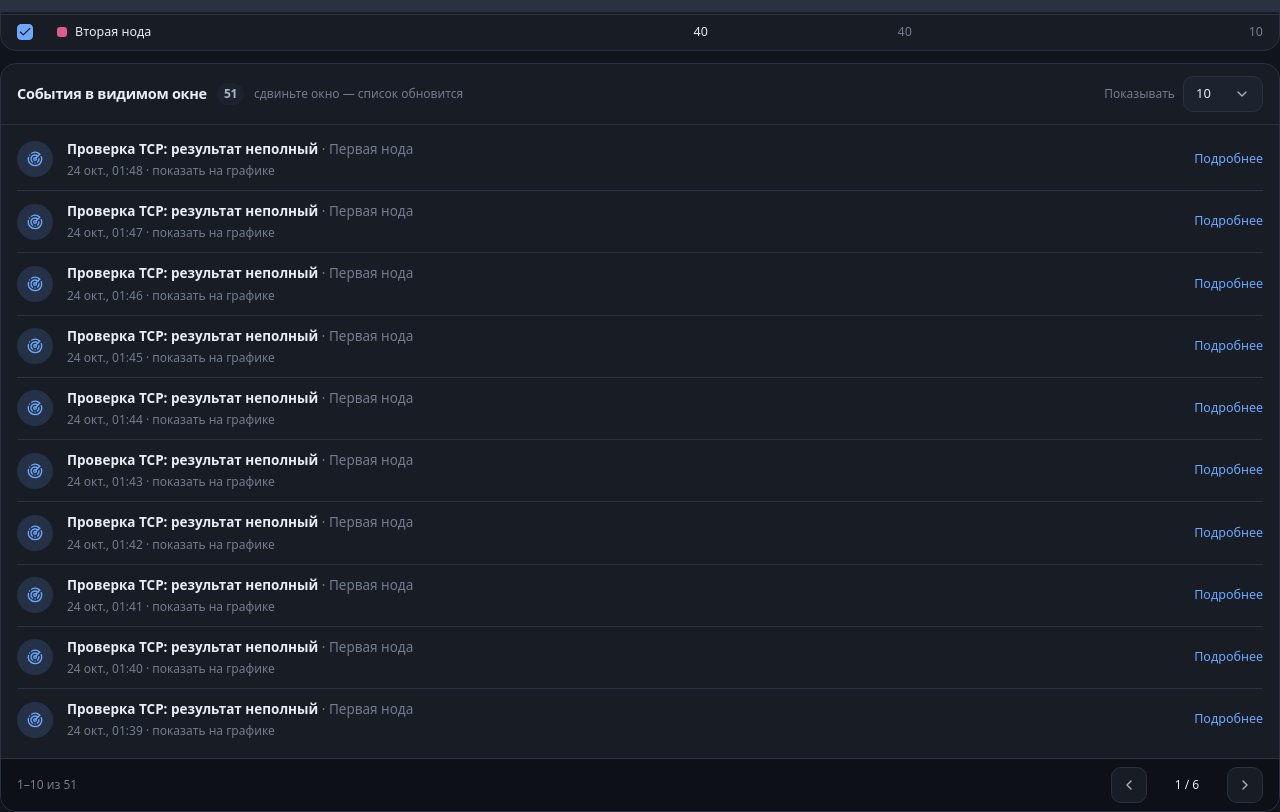
Test: Метрики › листает 10/25/50 событий видимого окна
(page scrolled)
Expected: the text "1–10 из 51" is shown, [17, 776, 77, 794]
Click the button named "Следующая страница событий" at (1245, 785), box [1227, 767, 1263, 803]
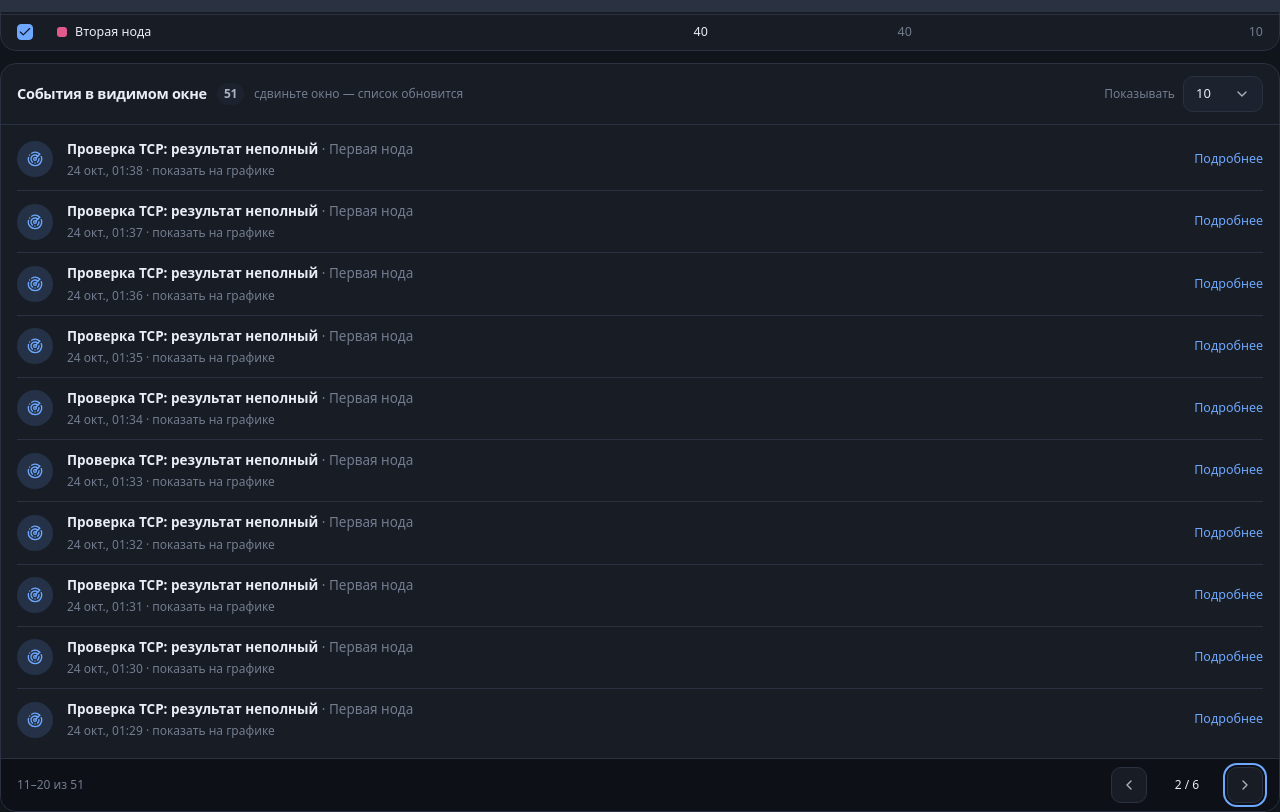
Expected: the text "11–20 из 51" is shown, [17, 776, 84, 794]
Click the dropdown named "Событий на странице" at (1223, 94), box [1183, 76, 1263, 112]
(page scrolled)
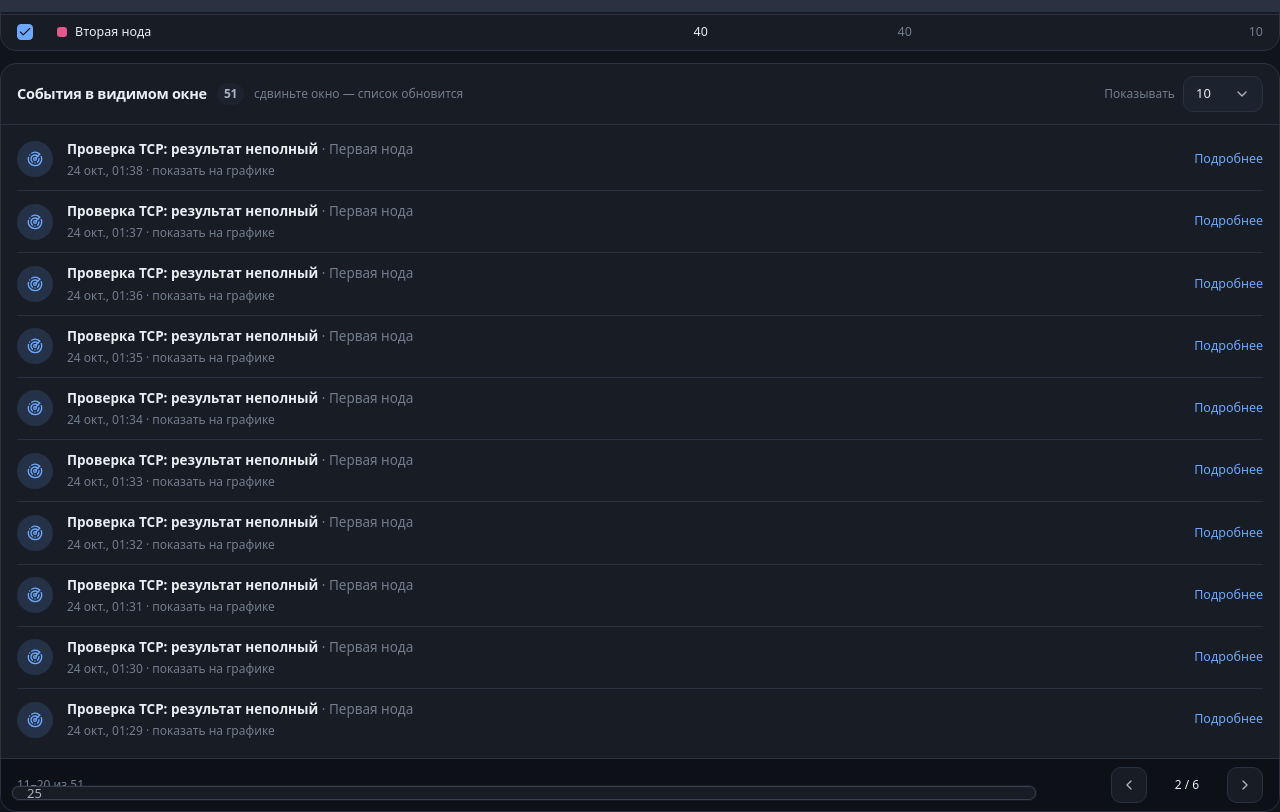
Click the option "25" at (34, 792), box [27, 784, 42, 802]
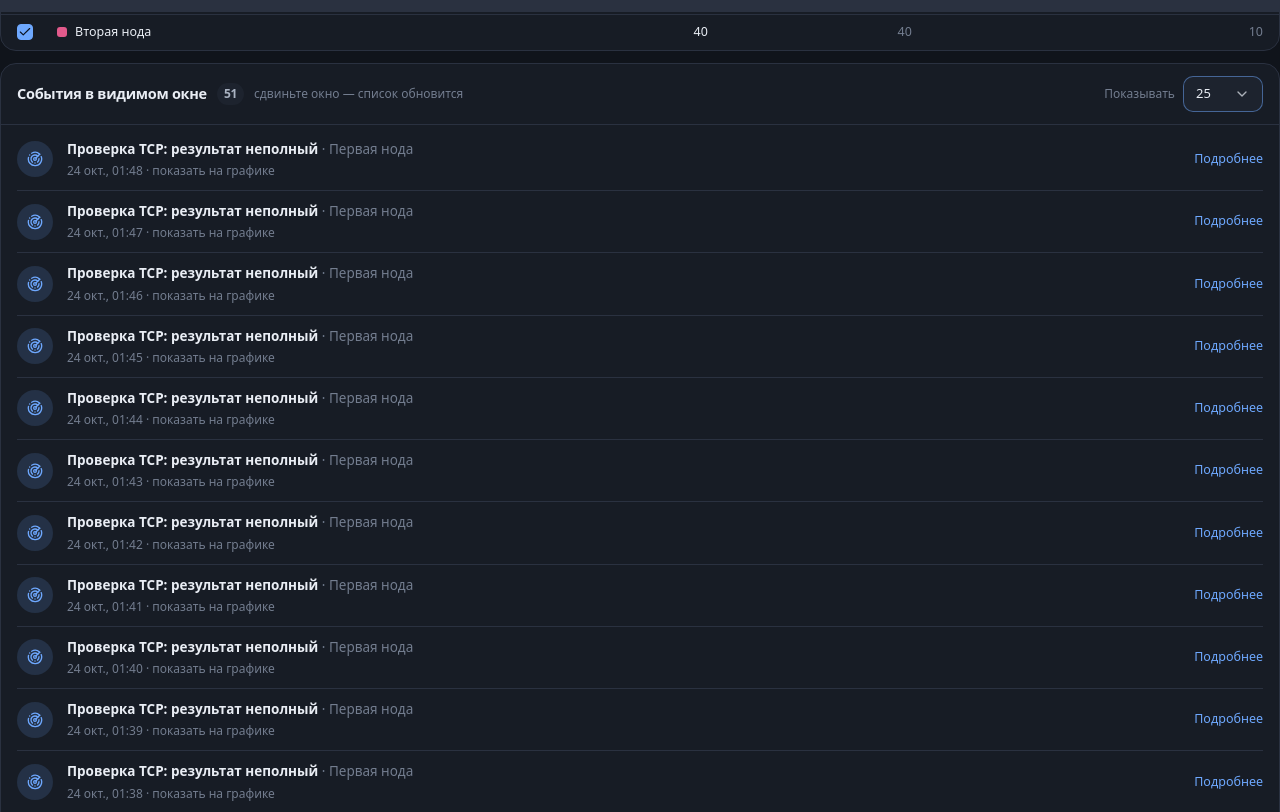
Click the dropdown named "Событий на странице" at (1223, 94), box [1183, 76, 1263, 112]
(page scrolled)
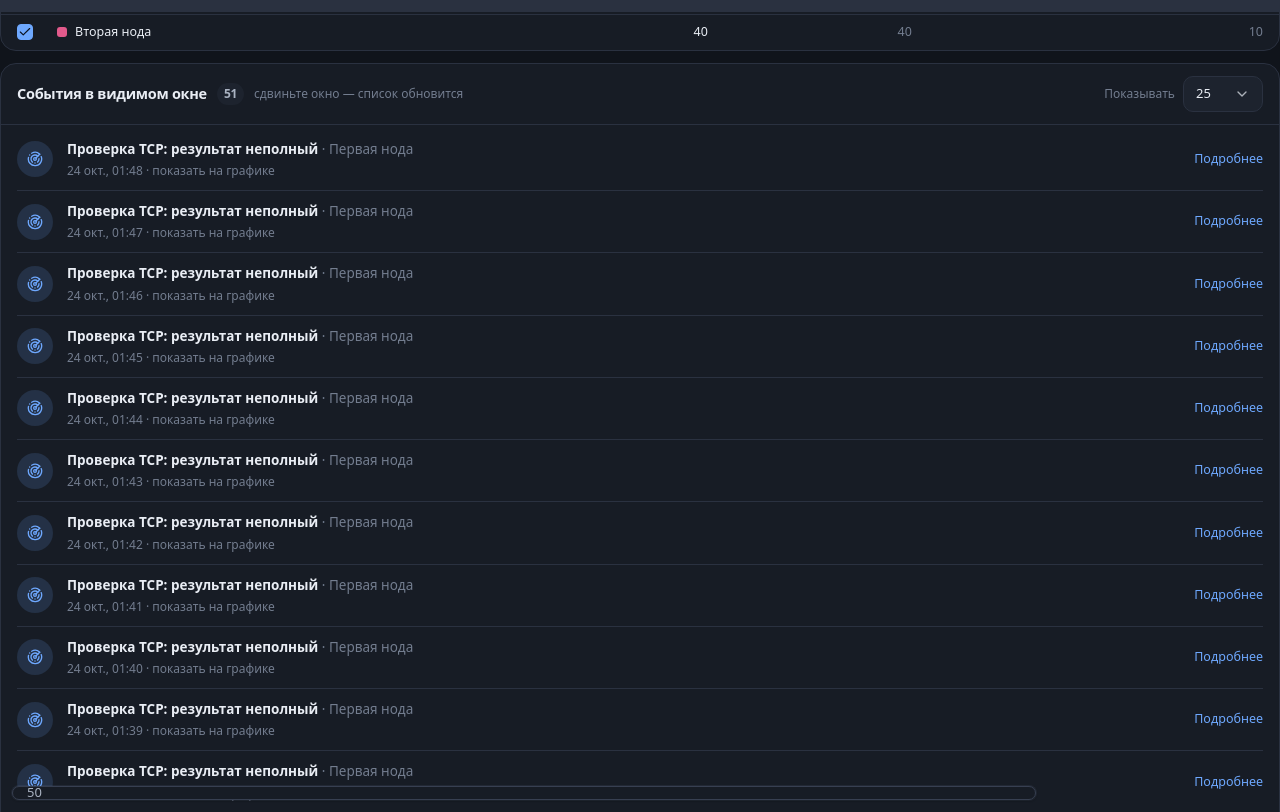
Click the option "50" at (34, 792), box [27, 783, 42, 801]
(page scrolled)
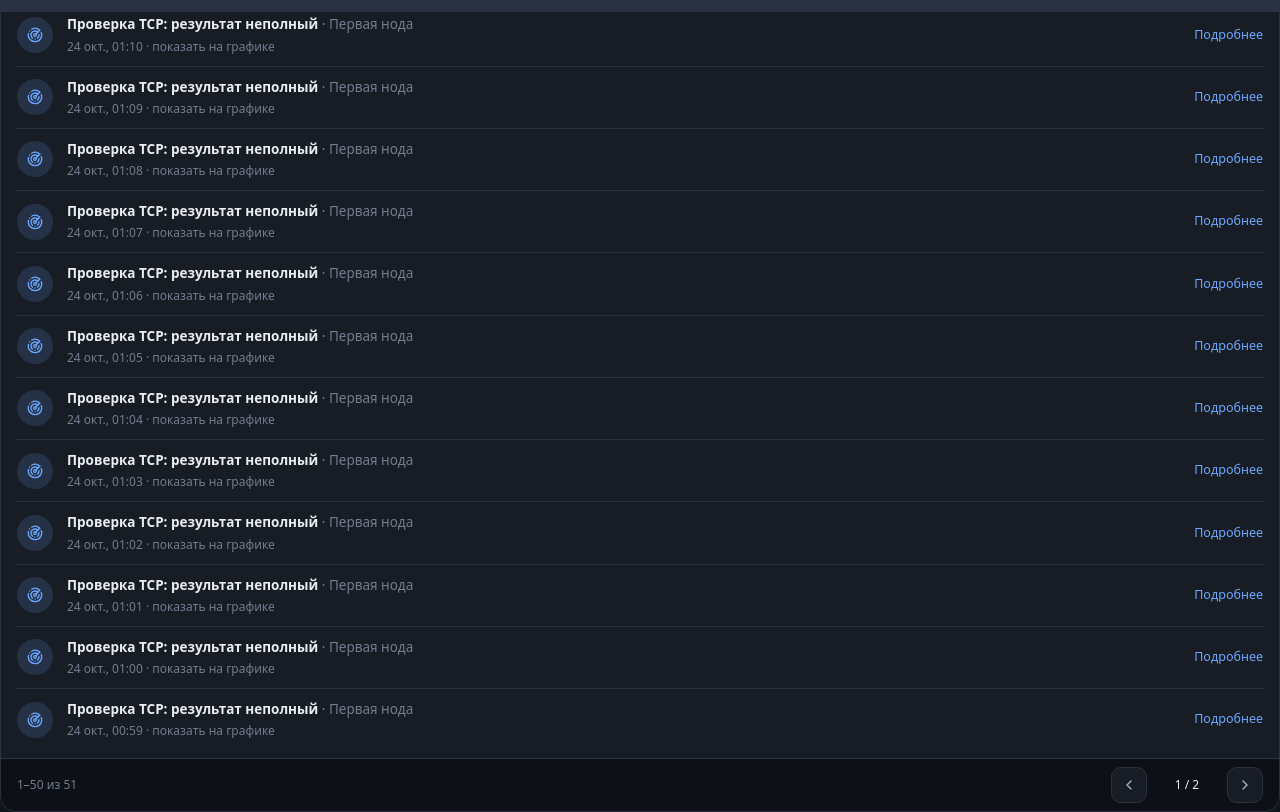
Expected: the text "1–50 из 51" is shown, [17, 776, 77, 794]
